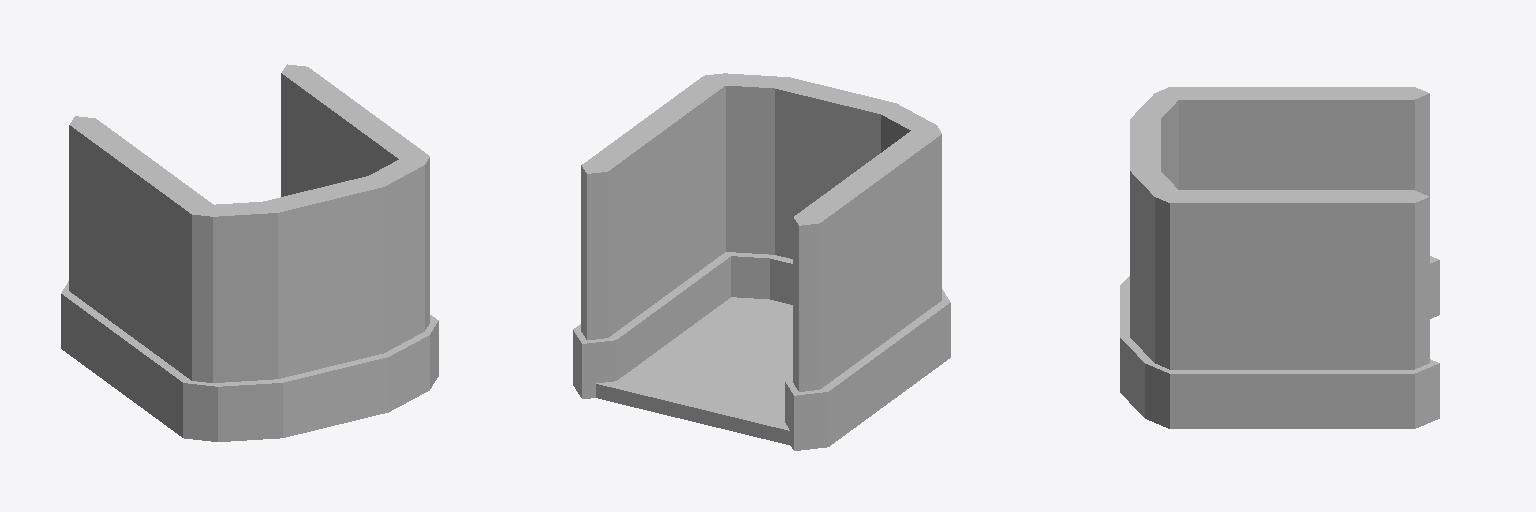
File: sm_hallway_end_05.obj
The picture shows the model from 3 angles: view 1: azimuth 30°, elevation 25°; view 2: azimuth 150°, elevation 25°; view 3: azimuth 270°, elevation 25°; orthographic projection.
Visible parts, largest first — view 1: wall_03_185, wall_01_172, wall_01_176; view 2: wall_01_172, wall_01_176, wall_03_185, floor_square_169; view 3: wall_01_176, wall_01_172, wall_03_185.
Boxes of the visible parts, x1=… form: wall_03_185: x1=184, y1=155, x2=438, y2=441; wall_01_172: x1=61, y1=116, x2=219, y2=441; wall_01_176: x1=281, y1=64, x2=438, y2=388; wall_01_172: x1=785, y1=128, x2=950, y2=450; wall_01_176: x1=573, y1=73, x2=735, y2=398; wall_03_185: x1=707, y1=73, x2=949, y2=304; floor_square_169: x1=596, y1=297, x2=792, y2=445; wall_01_176: x1=1145, y1=190, x2=1439, y2=428; wall_01_172: x1=1155, y1=87, x2=1439, y2=318; wall_03_185: x1=1120, y1=93, x2=1182, y2=428.
Size of the model in its own units: 1.21 by 1 by 1.3.